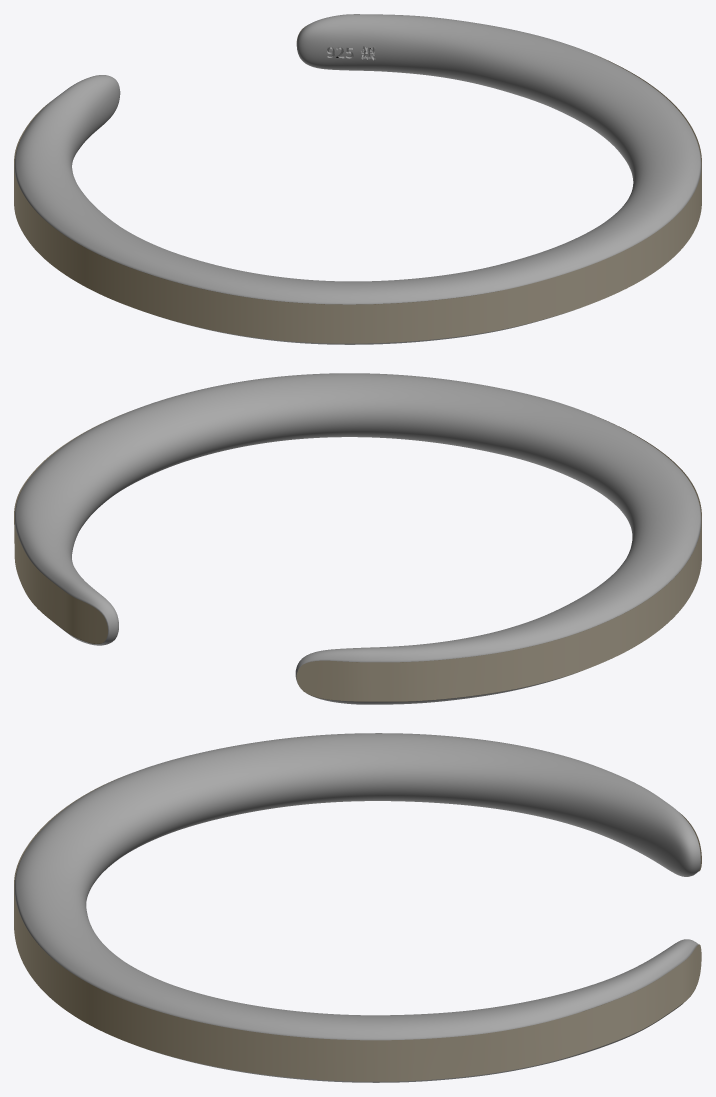
File: ring-silver.glb
3 views of the same model, one above another, from view 1: azimuth 30°, elevation 25°; view 2: azimuth 150°, elevation 25°; view 3: azimuth 270°, elevation 25° (orthographic). The views are drawn at different scales.
Visible parts, largest first — view 1: ring-body.006, ring-body.007; view 2: ring-body.006, ring-body.007; view 3: ring-body.006, ring-body.007.
Boxes of the visible parts, bbox=[...] form: ring-body.006: bbox=[14, 14, 701, 344]; ring-body.007: bbox=[14, 25, 701, 343]; ring-body.006: bbox=[15, 373, 701, 704]; ring-body.007: bbox=[14, 412, 701, 701]; ring-body.006: bbox=[14, 733, 700, 1082]; ring-body.007: bbox=[14, 776, 701, 1081].
Bounding box in the file's own units: 0.5126 × 0.0444 × 0.4867.
2 materials, 2 textured.
